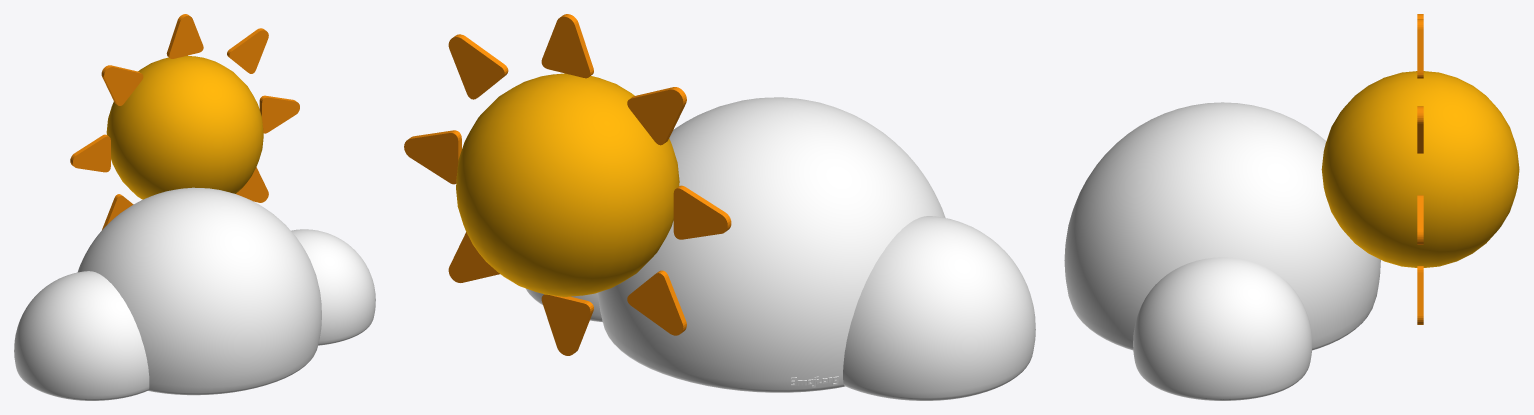
File: sun_behind_cloud.glb
The picture shows the model from 3 angles, left to right: view 1: azimuth 30°, elevation 25°; view 2: azimuth 150°, elevation 25°; view 3: azimuth 270°, elevation 25°; orthographic projection. The views are drawn at different scales.
Visible parts, largest first — view 1: Cube.196; view 2: Cube.196; view 3: Cube.196.
Part boxes in pixels (x1,y1,x2,y2): Cube.196: (14, 14, 375, 400); Cube.196: (404, 14, 1035, 400); Cube.196: (1064, 14, 1519, 400).
Size of the model in its own units: 2.22 by 1.54 by 1.97.
1 material, 1 textured.
